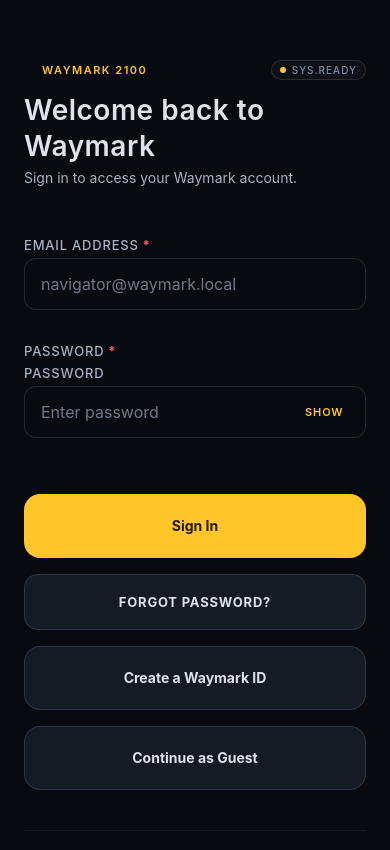
Test: Feature 04.2.2 — Sign-In Screen & Form Validation › TC-04.2.2-15: displays rate-limit error message when throttled
The image size is (390, 850).
In the field with test id "input-sign-in-email-input": (195, 284) [41,264,349,304], type "pilot@waymark.local"
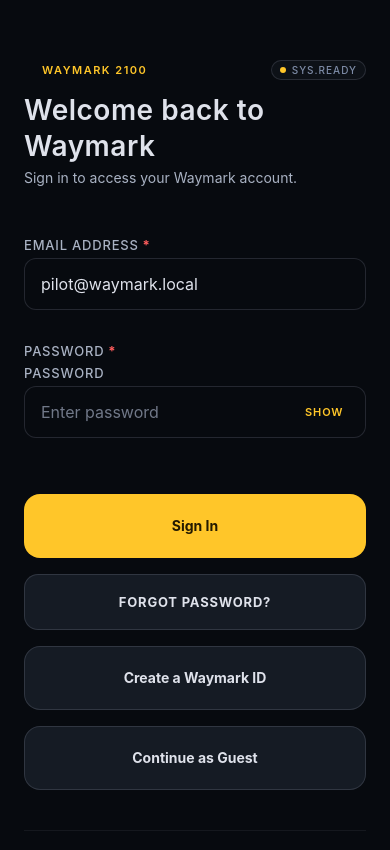
In the password field with test id "input-sign-in-password-input": (165, 412) [41,392,289,432], type "ValidPass123!"
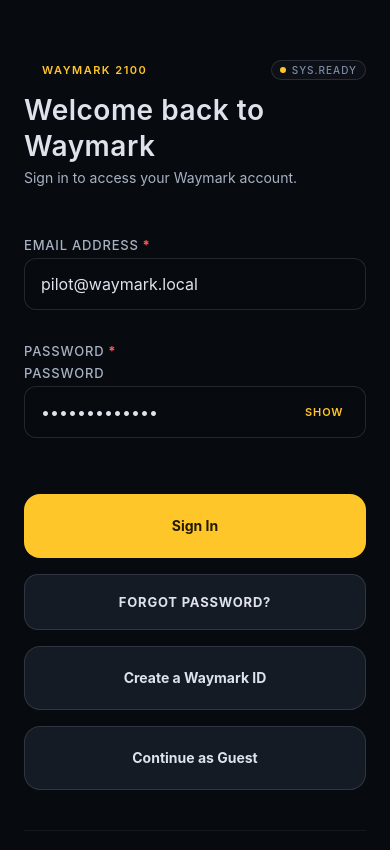
Click the button with test id "btn-submit-sign-in": (195, 526) [24,494,366,558]
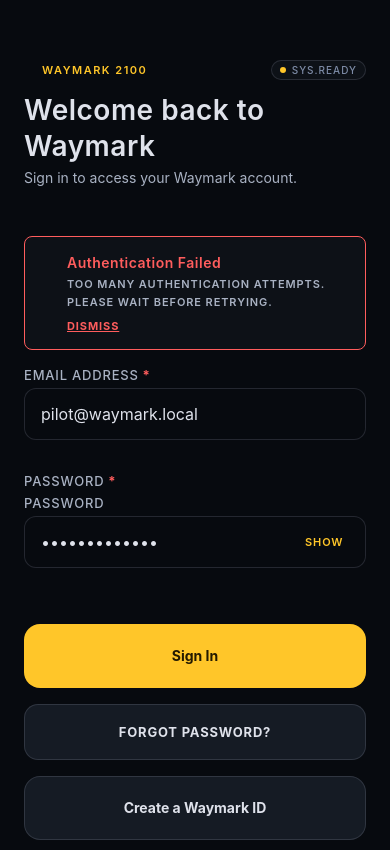
Check: the message with test id "sign-in-error-notice" is shown, box [24,236,366,350]
Check: the text "Too many authentication attempts" is shown, box [67,277,329,309]
